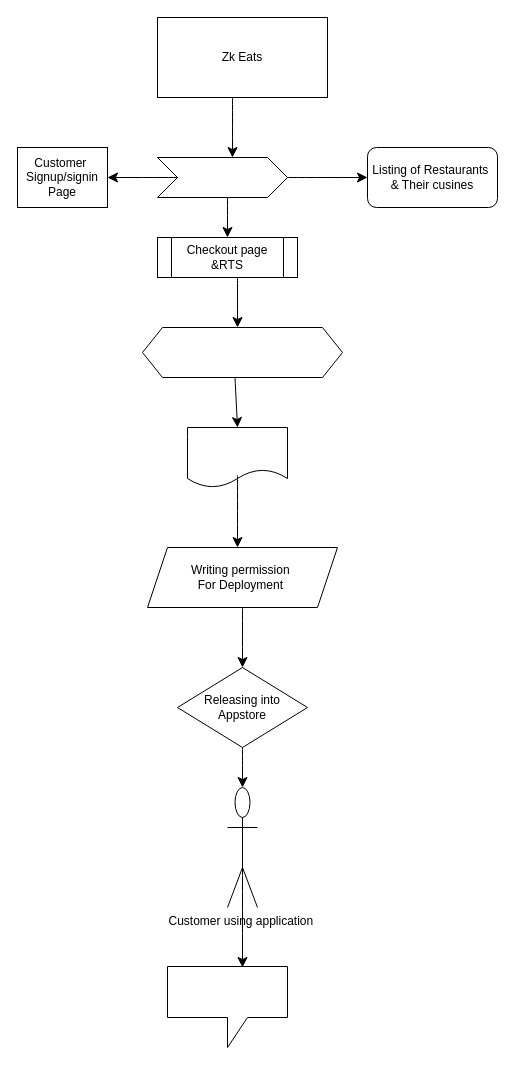
Image size: 515x1065. Some labels were removed from this diagram. The shapes that lost their labels are listed below. From the top down, each one's centre as x and y in pixels, then its label:
At point (222, 177): "Design uvux".
At point (242, 352): "Compiling into apx".
At point (237, 457): "No Bugs Found".
At point (227, 1007): "No Feedback Recieved".
